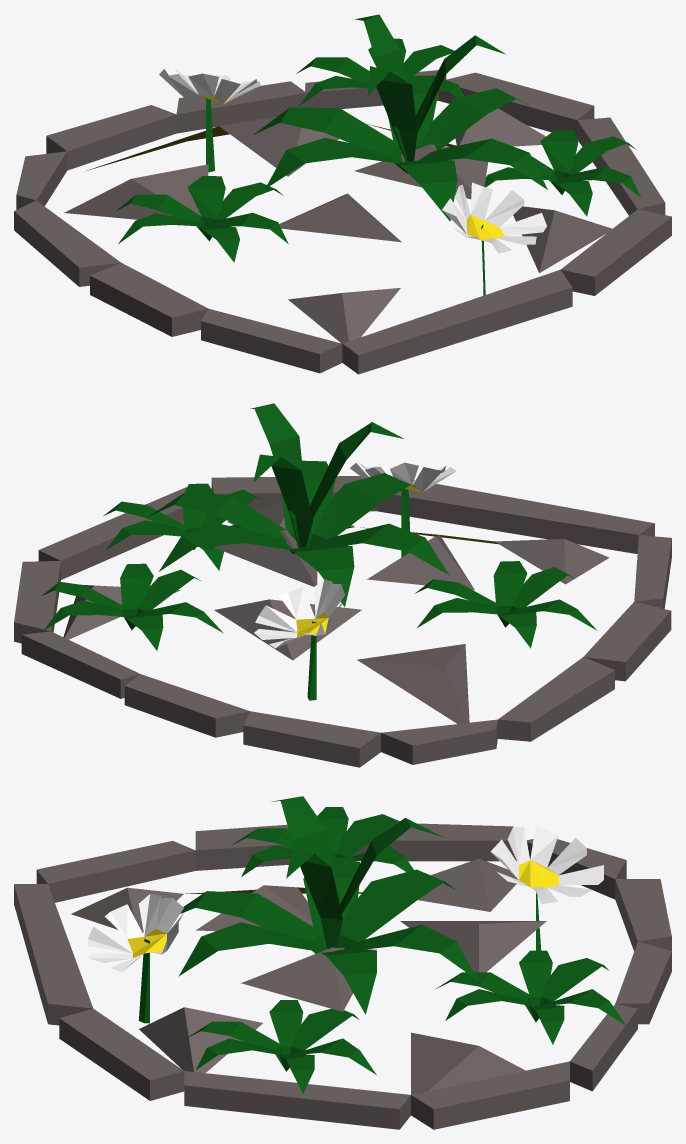
The model's file is obj_rockery_2_0.obj.
The picture shows the model from 3 angles, top to bottom: view 1: azimuth 30°, elevation 25°; view 2: azimuth 150°, elevation 25°; view 3: azimuth 270°, elevation 25°; orthographic projection. The views are drawn at different scales.
Bounding box in the file's own units: 0.9375 × 0.3125 × 0.9062.
